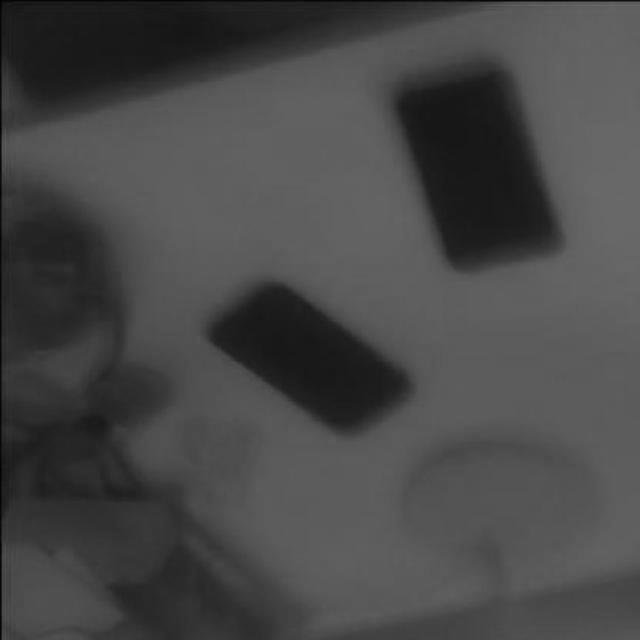fake: (391, 68, 560, 272), (204, 279, 410, 433)
